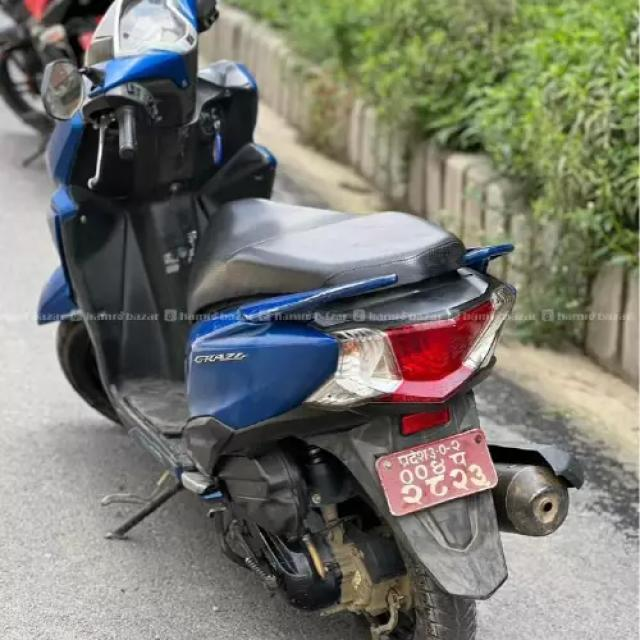License-plate: (369, 432, 512, 518)
